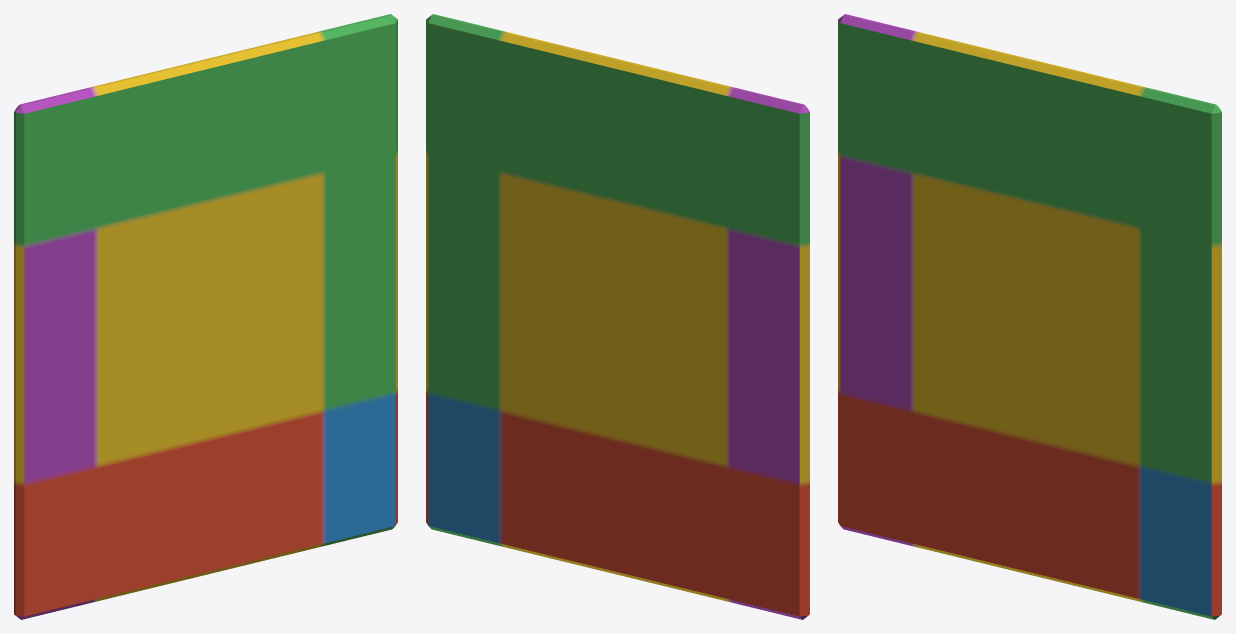
Rendered from Poster.glb.
The picture shows the model from 3 angles, left to right: view 1: azimuth 30°, elevation 25°; view 2: azimuth 150°, elevation 25°; view 3: azimuth 330°, elevation 25°; orthographic projection.
Visible parts, largest first — view 1: Cube; view 2: Cube; view 3: Cube.
Boxes of the visible parts, x1,y1,x2,y2 form: Cube: (14, 14, 397, 619); Cube: (426, 14, 809, 619); Cube: (838, 14, 1221, 619).
Size of the model in its own units: 0.7 by 0.9 by 0.025.
Materials: 1 (1 with a texture image).
